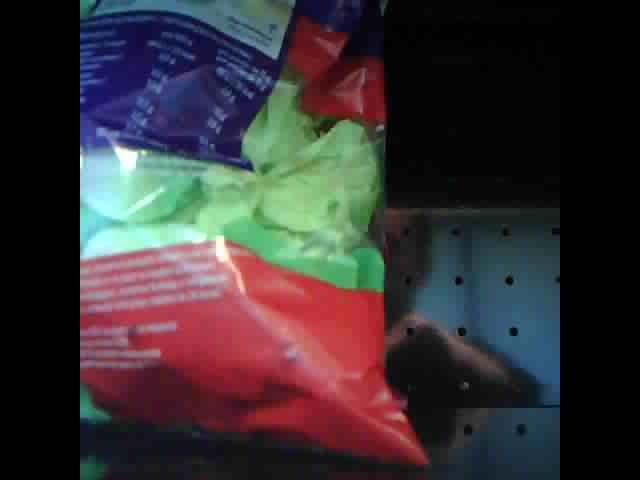florette: (83, 1, 436, 475)
